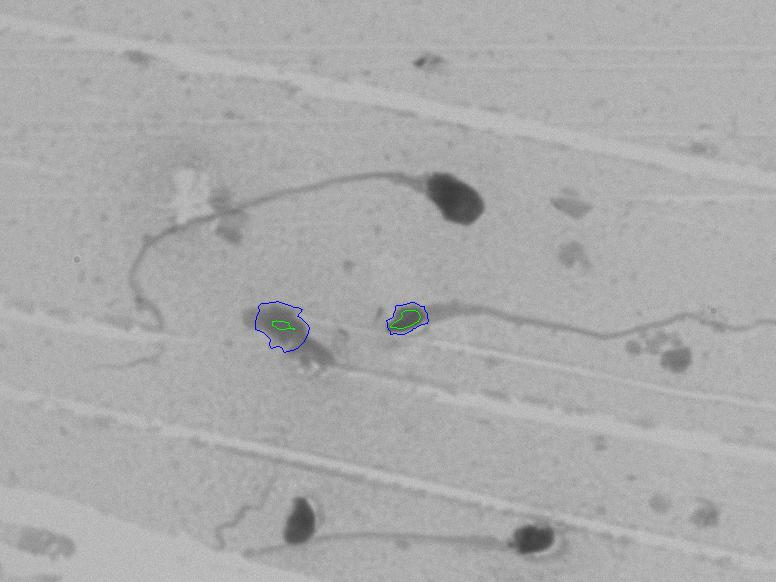Abnormal: (103, 112, 505, 280)
